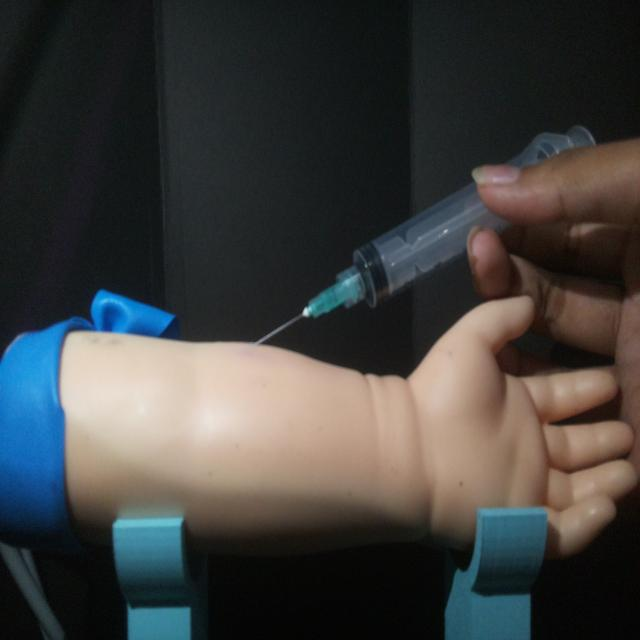26deg: (249, 120, 599, 350)
